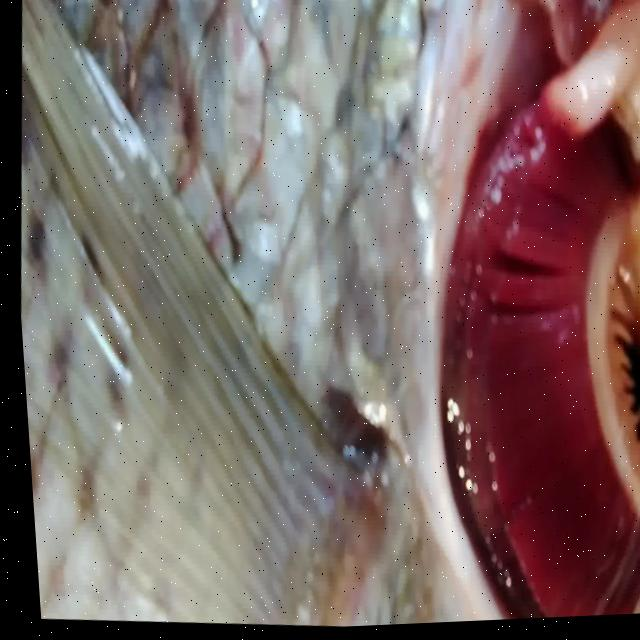Fresh: (383, 75, 640, 627)
